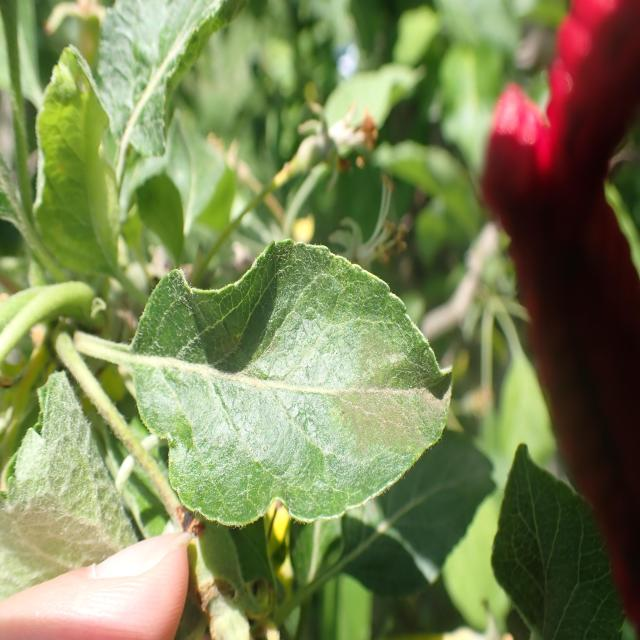scab: (248, 313, 476, 494)
